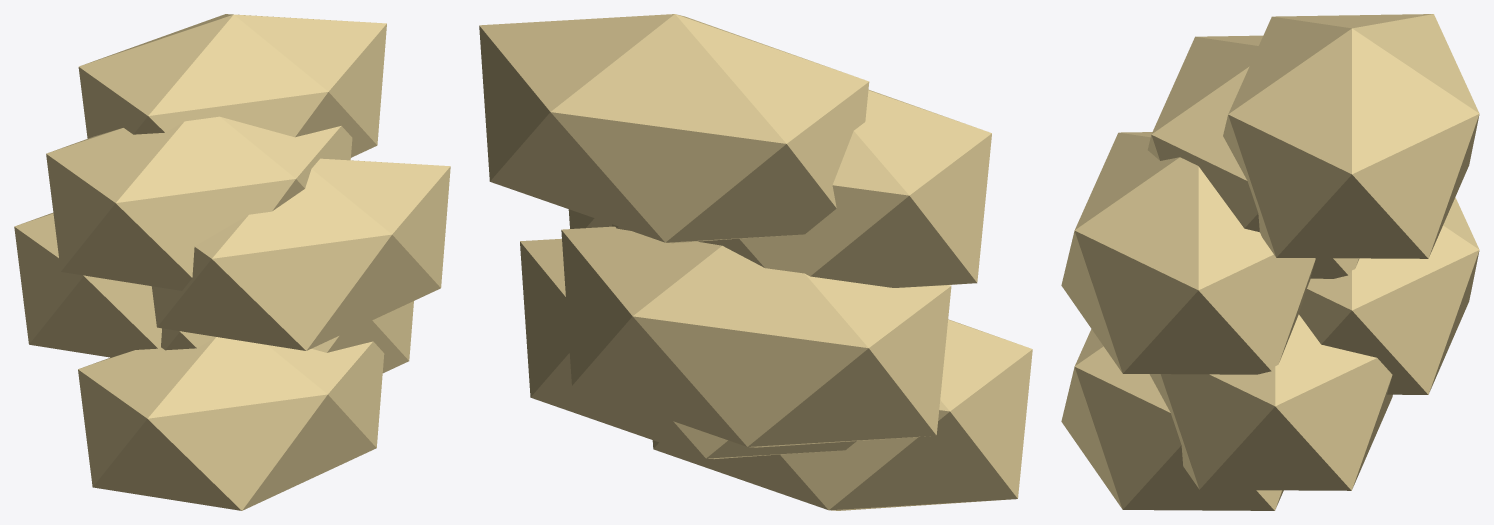
The model's file is item_047_cheese_l.glb.
3 views of the same model, side by side, from view 1: azimuth 30°, elevation 25°; view 2: azimuth 150°, elevation 25°; view 3: azimuth 270°, elevation 25° (orthographic). The views are drawn at different scales.
Parts seen in each view (by area): view 1: item_047_cheese_l; view 2: item_047_cheese_l; view 3: item_047_cheese_l.
Part boxes in pixels (x1,y1,x2,y2): item_047_cheese_l: (14, 14, 450, 510); item_047_cheese_l: (479, 14, 1032, 510); item_047_cheese_l: (1061, 14, 1479, 510).
Bounding box in the file's own units: 0.3898 × 0.4368 × 0.3268.
